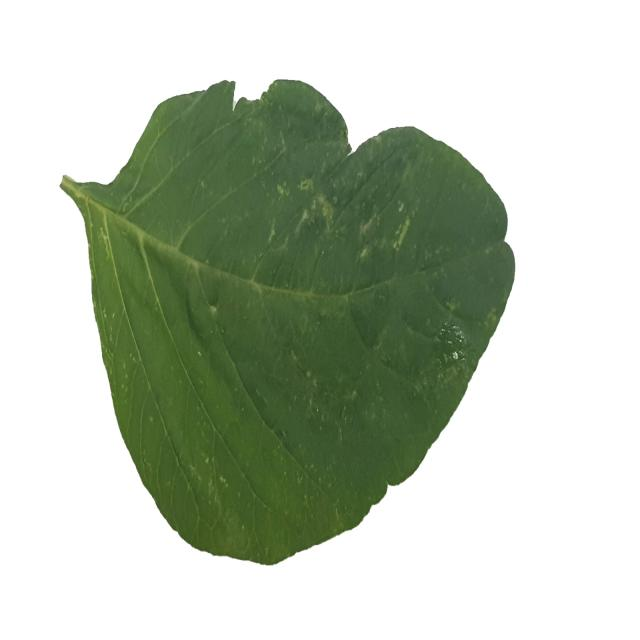Medicinal-Arive Dantu: (58, 75, 516, 570)
